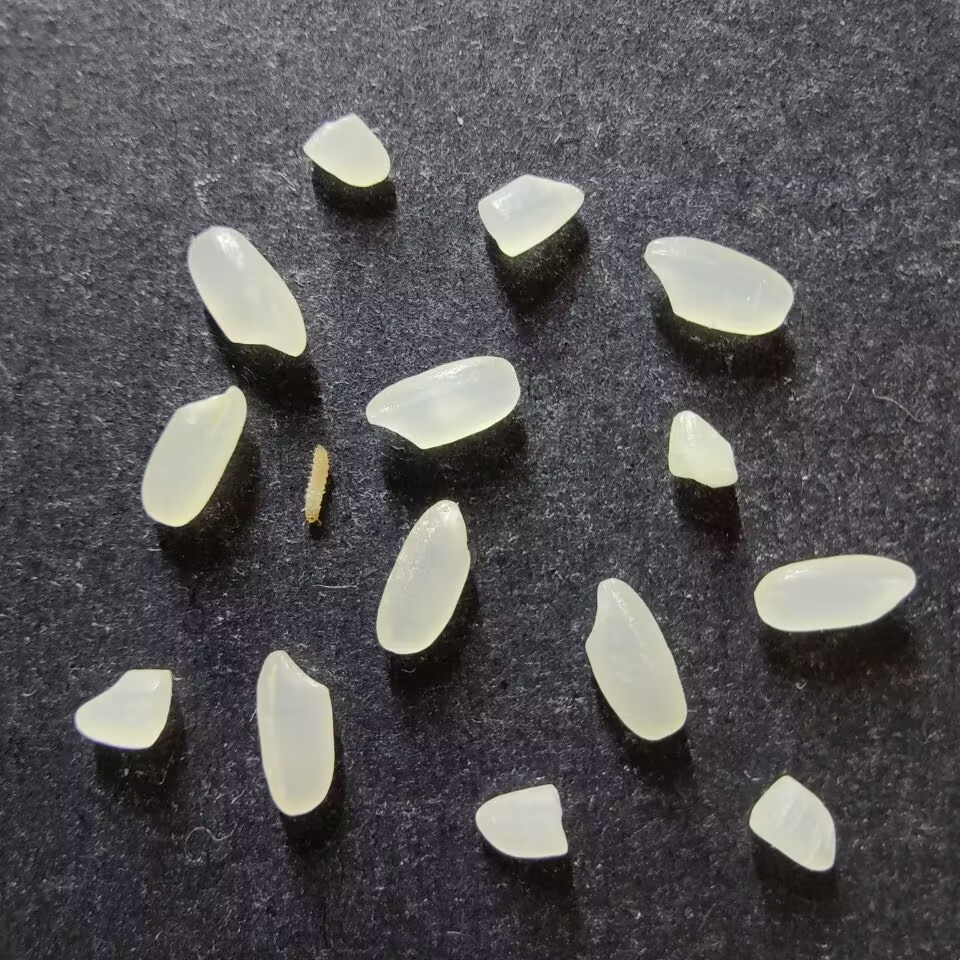broken: (748, 775, 836, 871), (74, 667, 172, 748), (474, 783, 569, 859), (667, 410, 737, 488)
others: (300, 443, 330, 528)
rice: (584, 578, 687, 741), (187, 226, 307, 357), (141, 385, 247, 528), (375, 499, 471, 654), (644, 236, 793, 335), (365, 355, 520, 449), (255, 649, 335, 816), (753, 554, 916, 632)
